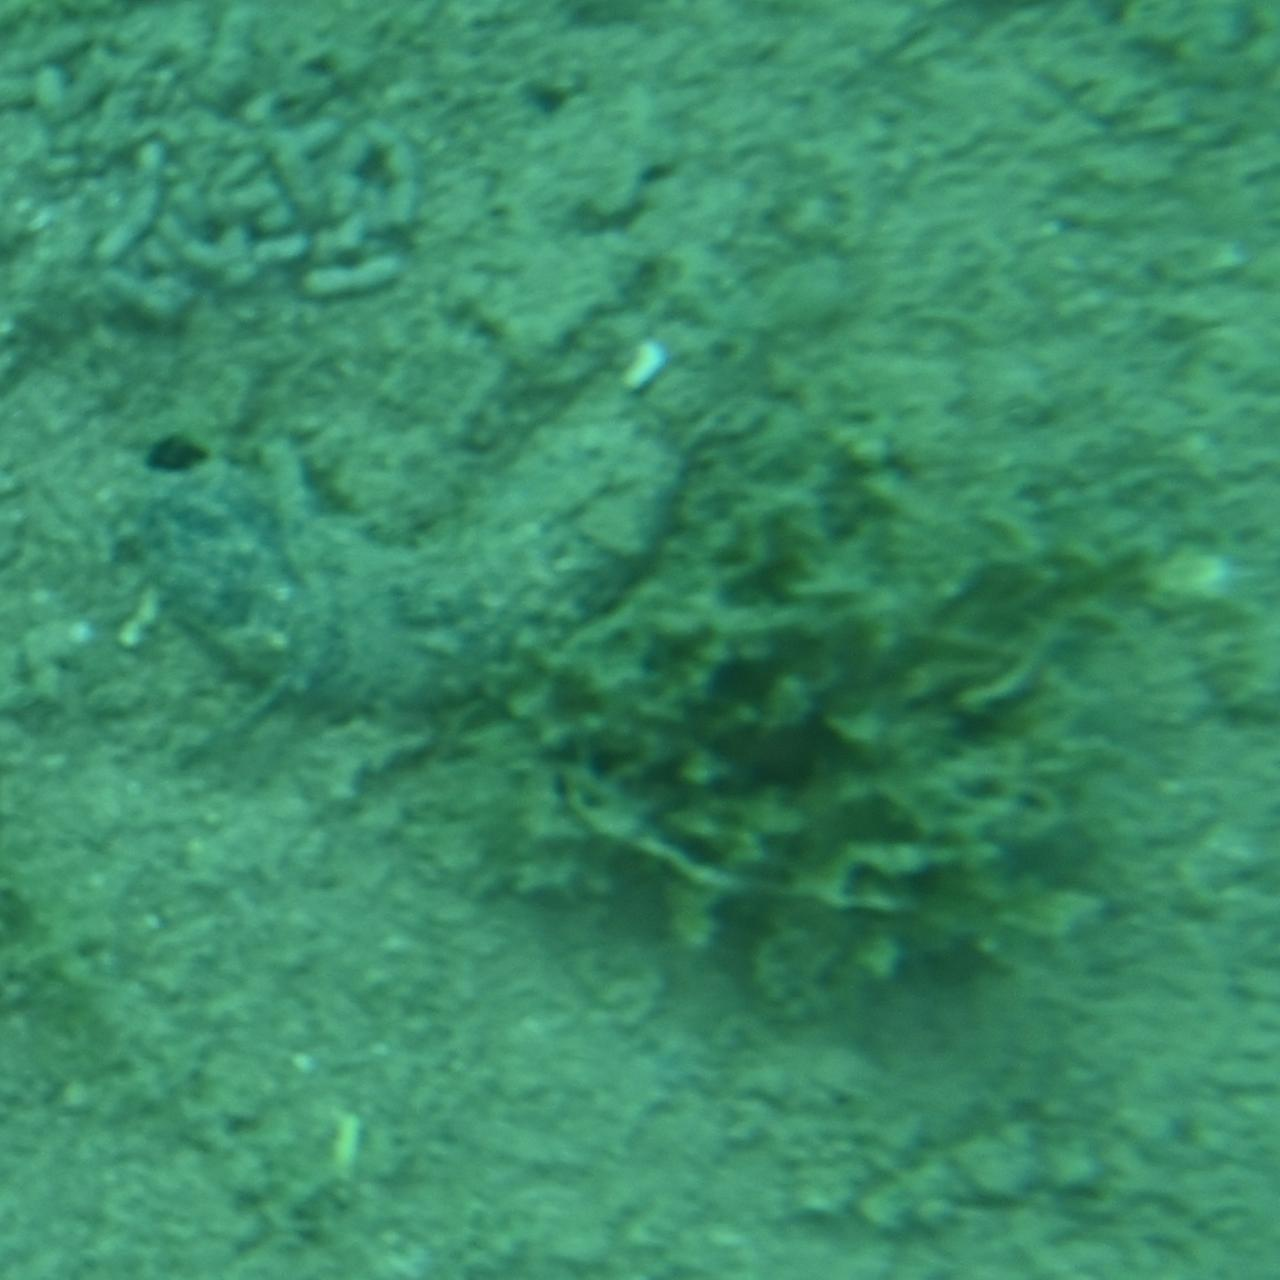Holothuria tubulosa: (128, 356, 736, 730)
Phaeophyceae -cfr Cystoseira-: (524, 435, 1171, 1041)
